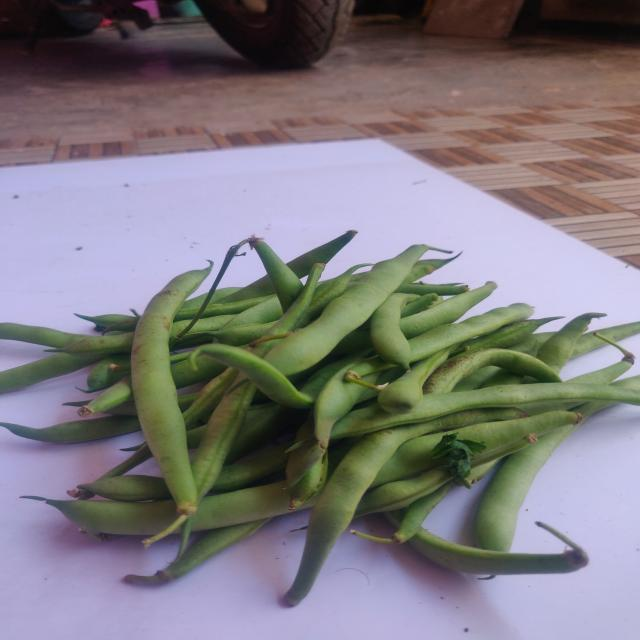Beans: (294, 409, 524, 594), (130, 262, 212, 547), (264, 244, 430, 376), (330, 383, 640, 439), (408, 530, 589, 576), (190, 380, 256, 504), (423, 348, 562, 395), (370, 293, 411, 371)
